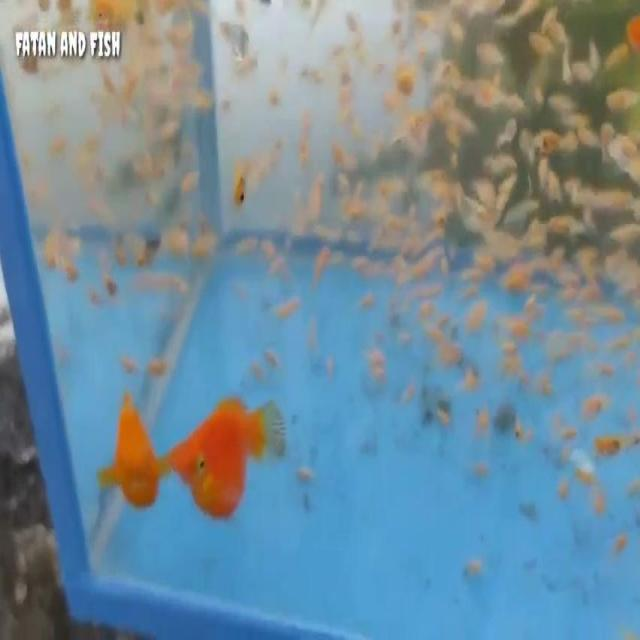PlatyFish: (164, 381, 290, 527)
